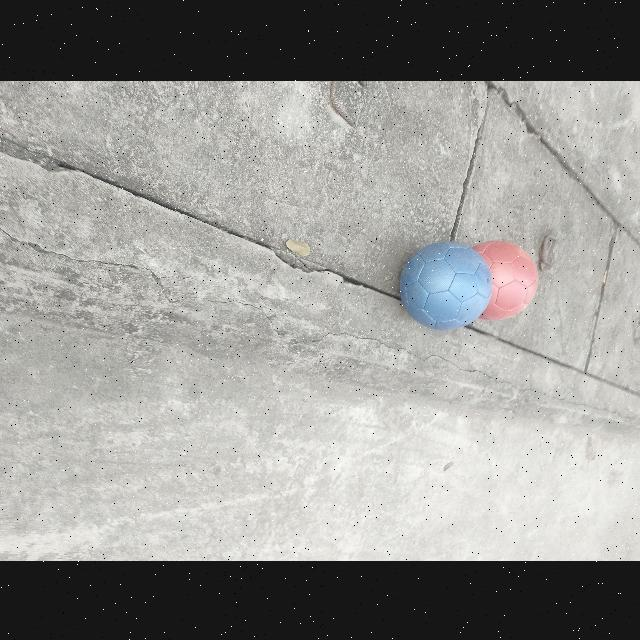B: (400, 241, 492, 329)
R: (474, 240, 538, 320)
